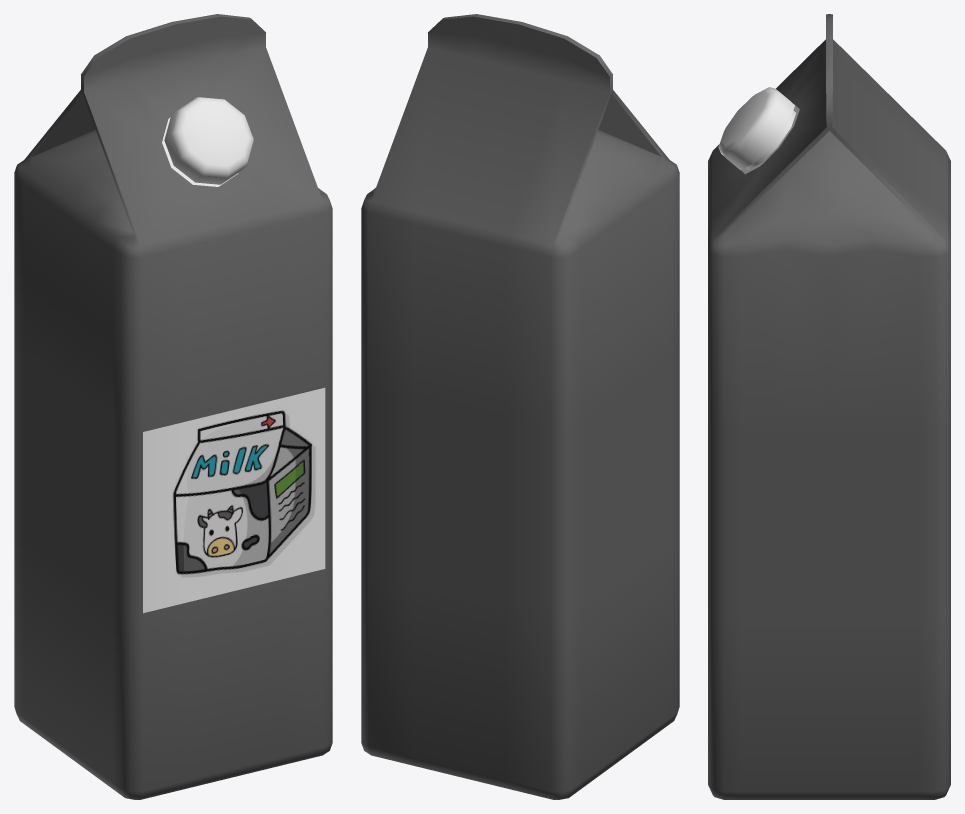
The model's file is Brick de leche.fbx.
3 renders of one model, left to right at view 1: azimuth 30°, elevation 25°; view 2: azimuth 150°, elevation 25°; view 3: azimuth 270°, elevation 25°, orthographic.
Visible parts, largest first — view 1: brick de leche a lo americano; view 2: brick de leche a lo americano; view 3: brick de leche a lo americano.
Boxes of the visible parts, box(x1,y1,x2,y2) form: brick de leche a lo americano: box(14, 14, 332, 799); brick de leche a lo americano: box(361, 14, 679, 799); brick de leche a lo americano: box(708, 14, 950, 799).
Size of the model in its own units: 7.21 by 23.51 by 7.21.
3 materials, 1 textured.
